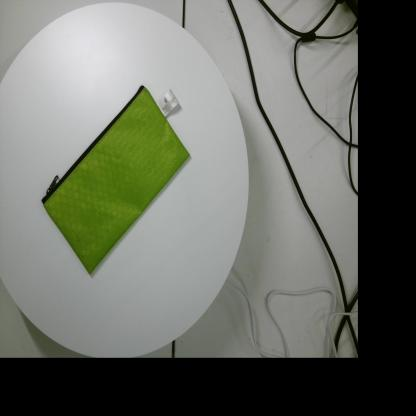Stationery: (41, 85, 190, 275)
